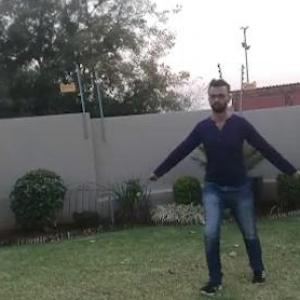land: (168, 93, 290, 259)
